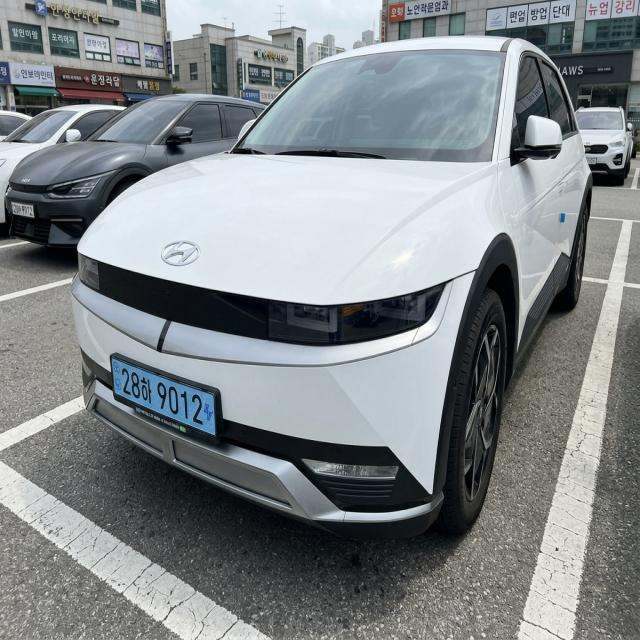car: (101, 341, 237, 462), (7, 195, 44, 226)
carev: (111, 354, 123, 398), (203, 395, 216, 430)
